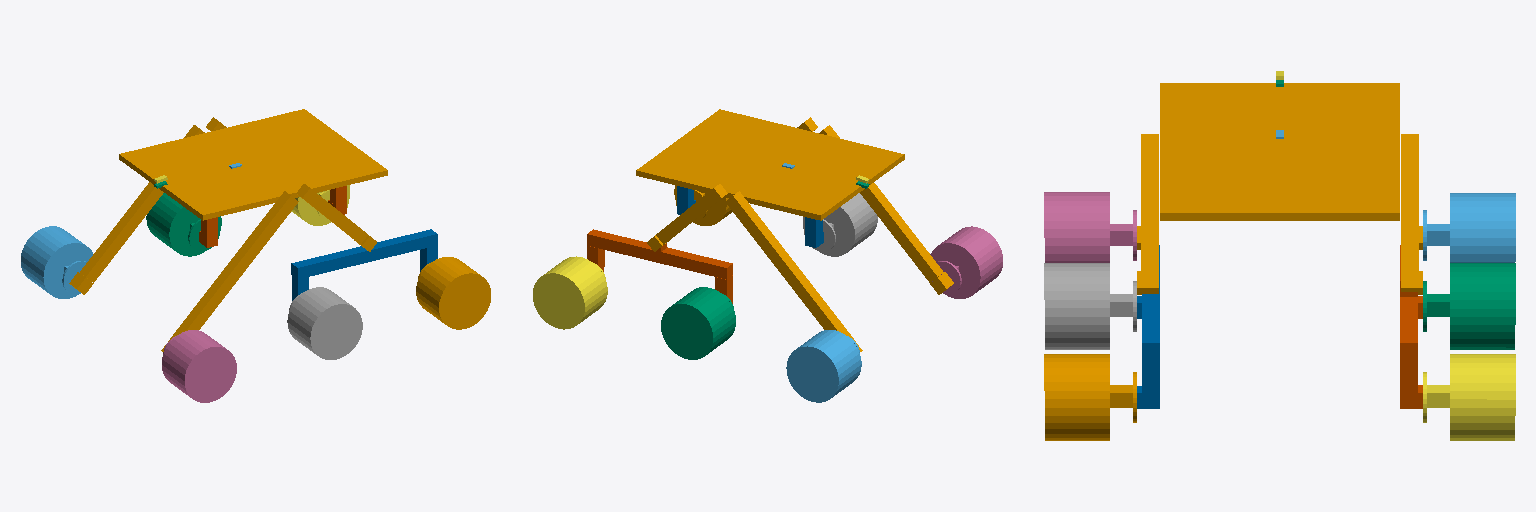
The robot description file, URDF, robot "rover":
<?xml version="1.0"?>

<robot name="rover">
  <link name="chassis">
    <inertial>
      <origin xyz="0 0 0" />
      <mass value="1.0" />
      <inertia  ixx="0.1" ixy="0.0"  ixz="0.0"  iyy="0.1"  iyz="0.0"  izz="0.1" />
    </inertial>
    <visual>
      <origin xyz="0 0 0.2"/>
      <geometry>
        <mesh filename="package://rover_gazebo/models/rover/3dmodels/platforma_nieruchome.dae" scale="1.0 1.0 1.0"/>
      </geometry>
    </visual>
    <collision>
      <origin xyz="0 0 0.2"/>
      <geometry>
        <mesh filename="package://rover_gazebo/models/rover/3dmodels/platforma_nieruchome.dae" scale="1.0 1.0 1.0"/>
      </geometry>
    </collision>
  </link>

  <link name="imu_link">
    <inertial>
      <origin xyz="0 0 0" />
      <mass value="1" />
      <inertia  ixx="0.001" ixy="0.0"  ixz="0.0"  iyy="0.001"  iyz="0.0"  izz=".001" />
    </inertial>
    <visual>
      <origin xyz="0  0  0"/>
      <geometry>
          <box size=".04 .02 .01"/>
      </geometry>
    </visual>
    <collision>
      <origin xyz="0  0  0"/>
      <geometry>
        <box size=".04 .02 .01"/>
      </geometry>
    </collision>
  </link>

  <link name="camera_link">
    <inertial>
      <origin xyz="0 0 0" />
      <mass value="1" />
      <inertia  ixx="0.001" ixy="0.0"  ixz="0.0"  iyy="0.001"  iyz="0.0"  izz=".001" />
    </inertial>
    <visual>
      <origin xyz="0  0  0"/>
      <geometry>
          <box size=".04 .02 .01"/>
      </geometry>
    </visual>
    <collision>
      <origin xyz="0  0  0"/>
      <geometry>
        <box size=".04 .02 .01"/>
      </geometry>
    </collision>
  </link>

  <link name="lidar_link">
    <inertial>
      <origin xyz="0 0 0" />
      <mass value="1" />
      <inertia  ixx="0.001" ixy="0.0"  ixz="0.0"  iyy="0.001"  iyz="0.0"  izz=".001" />
    </inertial>
    <visual>
      <origin xyz="0  0  0"/>
      <geometry>
          <box size=".04 .02 .01"/>
      </geometry>
    </visual>
    <collision>
      <origin xyz="0  0  0"/>
      <geometry>
        <box size=".04 .02 .01"/>
      </geometry>
    </collision>
  </link>





  <link name="left_steer">
    <inertial>
      <origin xyz="0 0 -0.1" />
      <mass value="1" />
      <inertia  ixx="0.005" ixy="0.0"  ixz="0.0"  iyy="0.005"  iyz="0.0"  izz=".005" />
    </inertial>
    <visual>
      <origin xyz="-0.32525  0.30404 -0.18389"/>
      <geometry>
        <mesh filename="package://rover_gazebo/models/rover/3dmodels/platforma_lewe_dwa.dae" scale="1.0 1.0 1.0"/>
      </geometry>
    </visual>
    <collision>
      <origin xyz="-0.32525  0.30404 -0.18389"/>
      <geometry>
        <mesh filename="package://rover_gazebo/models/rover/3dmodels/platforma_lewe_dwa.dae" scale="1.0 1.0 1.0"/>
      </geometry>
    </collision>
  </link>

  <link name="right_steer">
    <inertial>
      <origin xyz="0 0 -0.1" />
      <mass value="1" />
      <inertia  ixx=".005" ixy="0.0"  ixz="0.0"  iyy=".005"  iyz="0.0"  izz=".005" />
    </inertial>
    <visual>
      <origin xyz="-0.32525 -0.30404 -0.18389"/>
      <geometry>
        <mesh filename="package://rover_gazebo/models/rover/3dmodels/platforma_prawe_dwa.dae" scale="1.0 1.0 1.0"/>
      </geometry>
    </visual>
    <collision>
      <origin xyz="-0.32525 -0.30404 -0.18389"/>
      <geometry>
        <mesh filename="package://rover_gazebo/models/rover/3dmodels/platforma_prawe_dwa.dae" scale="1.0 1.0 1.0"/>
      </geometry>
    </collision>
  </link>


  <link name="left_wheel_1">
    <inertial>
      <origin xyz="0 -0.15 0" />
      <mass value="1" />
      <inertia  ixx="0.0009" ixy="0.0"  ixz="0.0"  iyy="0.0009"  iyz="0.0"  izz="0.001" />
    </inertial>
    <visual>
      <origin xyz="0.41492  0.346    0.04176"/>
      <geometry>
        <mesh filename="package://rover_gazebo/models/rover/3dmodels/platforma_kolo_lewe1.dae" scale="1.0 1.0 1.0"/>
      </geometry>
    </visual>
    <collision>
      <origin xyz="0.41492  0.346    0.04176"/>
      <geometry>
        <mesh filename="package://rover_gazebo/models/rover/3dmodels/platforma_kolo_lewe1.dae" scale="1.0 1.0 1.0"/>
      </geometry>
    </collision>
  </link>


  <link name="left_wheel_2">
    <inertial>
      <origin xyz="0 -0.15 0" />
      <mass value="1" />
      <inertia  ixx="0.0009" ixy="0.0"  ixz="0.0"  iyy="0.0009"  iyz="0.0"  izz="0.001" />
    </inertial>
    <visual>
      <origin xyz="-0.0742   0.346   -0.00293"/>
      <geometry>
        <mesh filename="package://rover_gazebo/models/rover/3dmodels/platforma_kolo_lewe2.dae" scale="1.0 1.0 1.0"/>
      </geometry>
    </visual>
    <collision>
      <origin xyz="-0.0742   0.346   -0.00293"/>
      <geometry>
        <mesh filename="package://rover_gazebo/models/rover/3dmodels/platforma_kolo_lewe2.dae" scale="1.0 1.0 1.0"/>
      </geometry>
    </collision>
  </link>

  <link name="left_wheel_3">
    <inertial>
      <origin xyz="0 -0.15 0" />
      <mass value="1" />
      <inertia  ixx="0.0009" ixy="0.0"  ixz="0.0"  iyy="0.0009"  iyz="0.0"  izz="0.001" />
    </inertial>
    <visual>
      <origin xyz="-5.74160000e-01   3.46000000e-01  -9.00000000e-05"/>
      <geometry>
        <mesh filename="package://rover_gazebo/models/rover/3dmodels/platforma_kolo_lewe3.dae" scale="1.0 1.0 1.0"/>
      </geometry>
    </visual>
    <collision>
      <origin xyz="-5.74160000e-01   3.46000000e-01  -9.00000000e-05"/>
      <geometry>
        <mesh filename="package://rover_gazebo/models/rover/3dmodels/platforma_kolo_lewe3.dae" scale="1.0 1.0 1.0"/>
      </geometry>
    </collision>
  </link>

  <link name="right_wheel_1">
    <inertial>
      <origin xyz="0 0.15 0" />
      <mass value="1" />
      <inertia  ixx="0.0009" ixy="0.0"  ixz="0.0"  iyy="0.0009"  iyz="0.0"  izz="0.001" />
    </inertial>
    <visual>
      <origin xyz="0.41492 -0.346    0.04176"/>
      <geometry>
        <mesh filename="package://rover_gazebo/models/rover/3dmodels/platforma_kolo_prawe1.dae" scale="1.0 1.0 1.0"/>
      </geometry>
    </visual>
    <collision>
      <origin xyz="0.41492 -0.346    0.04176"/>
      <geometry>
        <mesh filename="package://rover_gazebo/models/rover/3dmodels/platforma_kolo_prawe1.dae" scale="1.0 1.0 1.0"/>
      </geometry>
    </collision>
  </link>


  <link name="right_wheel_2">
    <inertial>
      <origin xyz="0 0.15 0" />
      <mass value="1" />
      <inertia  ixx="0.0009" ixy="0.0"  ixz="0.0"  iyy="0.0009"  iyz="0.0"  izz="0.001" />
    </inertial>
    <visual>
      <origin xyz="-0.0742   -0.346   -0.00293"/>
      <geometry>
        <mesh filename="package://rover_gazebo/models/rover/3dmodels/platforma_kolo_prawe2.dae" scale="1.0 1.0 1.0"/>
      </geometry>
    </visual>
    <collision>
      <origin xyz="-0.0742   -0.346   -0.00293"/>
      <geometry>
        <mesh filename="package://rover_gazebo/models/rover/3dmodels/platforma_kolo_prawe2.dae" scale="1.0 1.0 1.0"/>
      </geometry>
    </collision>
  </link>

  <link name="right_wheel_3">
    <inertial>
      <origin xyz="0 0.15 0" />
      <mass value="1" />
      <inertia  ixx="0.0009" ixy="0.0"  ixz="0.0"  iyy="0.0009"  iyz="0.0"  izz="0.001" />
    </inertial>
    <visual>
      <origin xyz="-5.74160000e-01   -3.46000000e-01  -9.00000000e-05"/>
      <geometry>
        <mesh filename="package://rover_gazebo/models/rover/3dmodels/platforma_kolo_prawe3.dae" scale="1.0 1.0 1.0"/>
      </geometry>
    </visual>
    <collision>
      <origin xyz="-5.74160000e-01   -3.46000000e-01  -9.00000000e-05"/>
      <geometry>
        <mesh filename="package://rover_gazebo/models/rover/3dmodels/platforma_kolo_prawe3.dae" scale="1.0 1.0 1.0"/>
      </geometry>
    </collision>
  </link>

  <joint name="imu_joint" type="fixed">
    <parent link="chassis"/>
    <child link="imu_link"/>
    <origin rpy="0  0  0" xyz="0       0       0.61032"/>
    <axis xyz="0 0  0"/>
    <limit effort="0.0" lower="0" upper="0" velocity="0.0"/>
  </joint>


  <joint name="camera_joint" type="fixed">
    <parent link="chassis"/>
    <child link="camera_link"/>
    <origin rpy="0  0.0873  3.14159265" xyz="-0.28996  0       0.61032"/>
    <axis xyz="0 0  0"/>
    <limit effort="0.0" lower="0" upper="0" velocity="0.0"/>
  </joint>

  <joint name="lidar_joint" type="fixed">
    <parent link="chassis"/>
    <child link="lidar_link"/>
    <origin rpy="0  0.1222  3.14159265"  xyz="-0.28996       0       0.63032"/>
    <axis xyz="0 0  0"/>
    <limit effort="0.0" lower="0" upper="0" velocity="0.0"/>
  </joint>



  <joint name="left_steer_hinge" type="revolute">
    <parent link="chassis"/>
    <child link="left_steer"/>
    <origin rpy="0  0  0" xyz="0.32525 -0.30404  0.38389"/>
    <axis xyz="0 -1  0"/>
    <limit effort="0.0" lower="-0.5" upper="1.0" velocity="0.0"/>
  </joint>

  <joint name="right_steer_hinge" type="revolute">
    <parent link="chassis"/>
    <child link="right_steer"/>
    <origin rpy="0  0  0" xyz="0.32525  0.30404  0.38389"/>
    <axis xyz="0 1  0"/>
    <limit effort="0.0" lower="-1." upper="0.5" velocity="0.0"/>
  </joint>

  <joint name="left_wheel_1_hinge" type="continuous">
    <parent link="chassis"/>
    <child link="left_wheel_1"/>
    <origin rpy="0  0  0" xyz="-0.41492 -0.346    0.15824"/>
    <axis xyz="0 -1  0"/>
    <limit effort="0" velocity="0"/>
  </joint>

  <joint name="left_wheel_2_hinge" type="continuous">
    <parent link="left_steer"/>
    <child link="left_wheel_2"/>
    <origin rpy="0  0  0" xyz="-0.25105 -0.04195 -0.18095"/>
    <axis xyz="0 -1  0"/>
    <limit effort="0" velocity="0"/>
  </joint>

  <joint name="left_wheel_3_hinge" type="continuous">
    <parent link="left_steer"/>
    <child link="left_wheel_3"/>
    <origin rpy="0  0  0" xyz="0.24891 -0.04195 -0.18379"/>
    <axis xyz="0 1  0"/>
    <limit effort="0"  velocity="0"/>
  </joint>

  <joint name="right_wheel_1_hinge" type="continuous">
    <parent link="chassis"/>
    <child link="right_wheel_1"/>
    <origin rpy="0  0  0" xyz="-0.41492 0.346    0.15824"/>
    <axis xyz="0 1  0"/>
    <limit effort="0"  velocity="0"/>
  </joint>

  <joint name="right_wheel_2_hinge" type="continuous">
    <parent link="right_steer"/>
    <child link="right_wheel_2"/>
    <origin rpy="0  0  0" xyz="-0.25105 0.04195 -0.18095"/>
    <axis xyz="0 1  0"/>
    <limit effort="0" velocity="0"/>
  </joint>

  <joint name="right_wheel_3_hinge" type="continuous">
    <parent link="right_steer"/>
    <child link="right_wheel_3"/>
    <origin rpy="0  0  0" xyz="0.24891 0.04195 -0.18379"/>
    <axis xyz="0 1  0"/>
    <limit effort="0" velocity="0"/>
  </joint>


  <gazebo reference ="left_wheel_1">
      <mu1 value="200.0"/>
      <mu2 value="100.0"/>
      <kp value="10000000.0"/>
      <kd value= "1.0"/>
      <material>Gazebo/Black</material>
  </gazebo>
  <gazebo reference ="left_wheel_2">
      <mu1 value="200.0"/>
      <mu2 value="100.0"/>
      <kp value="10000000.0"/>
      <kd value= "1.0"/>
      <material>Gazebo/Black</material>
  </gazebo>
  <gazebo reference ="left_wheel_3">
      <mu1 value="200.0"/>
      <mu2 value="100.0"/>
      <kp value="10000000.0"/>
      <kd value= "1.0"/>
      <material>Gazebo/Black</material>
  </gazebo>
  <gazebo reference ="right_wheel_1">
      <mu1 value="200.0"/>
      <mu2 value="100.0"/>
      <kp value="10000000.0"/>
      <kd value= "1.0"/>
      <material>Gazebo/Black</material>
  </gazebo>
  <gazebo reference ="right_wheel_2">
      <mu1 value="200.0"/>
      <mu2 value="100.0"/>
      <kp value="10000000.0"/>
      <kd value= "1.0"/>
      <material>Gazebo/Black</material>
  </gazebo>
  <gazebo reference ="right_wheel_3">
      <mu1 value="200.0"/>
      <mu2 value="100.0"/>
      <kp value="10000000.0"/>
      <kd value= "1.0"/>
      <material>Gazebo/Black</material>
  </gazebo>



  <gazebo reference="chassis">
    <material>Gazebo/Blue</material>
  </gazebo>


  <gazebo reference="camera_link">
    <sensor name="d_camera" type="depth">
      <pose>-0.28996  0 0.61032 0 0 0</pose>
      <visualize>true</visualize>
      <update_rate>10</update_rate>
      <camera>
        <horizontal_fov>1.047198</horizontal_fov>
        <image>
          <width>640</width>
          <height>480</height>
          <format>R8G8B8</format>
        </image>
        <clip>
          <near>0.05</near>
          <far>3</far>
        </clip>
      </camera>
      <plugin name="d_controller" filename="libgazebo_ros_openni_kinect.so">
        <baseline>0.2</baseline>
        <alwaysOn>true</alwaysOn>
        <updateRate>1.0</updateRate>
        <cameraName>kamera_ir</cameraName>
        <imageTopicName>/kamera/depth/image_raw</imageTopicName>
        <cameraInfoTopicName>/kamera/depth/camera_info</cameraInfoTopicName>
        <depthImageTopicName>/kamera/depth/image_raw</depthImageTopicName>
        <depthImageInfoTopicName>/kamera/depth/camera_info</depthImageInfoTopicName>
        <pointCloudTopicName>/kamera/depth/points</pointCloudTopicName>
        <frameName>image</frameName>
        <pointCloudCutoff>0.5</pointCloudCutoff>
        <pointCloudCutoffMax>3.0</pointCloudCutoffMax>
        <distortionK1>0.00000001</distortionK1>
        <distortionK2>0.00000001</distortionK2>
        <distortionK3>0.00000001</distortionK3>
        <distortionT1>0.00000001</distortionT1>
        <distortionT2>0.00000001</distortionT2>
        <CxPrime>0</CxPrime>
        <Cx>0</Cx>
        <Cy>0</Cy>
        <focalLength>0</focalLength>
        <hackBaseline>0</hackBaseline>
      </plugin>
    </sensor>
  </gazebo>


  <gazebo reference="lidar_link">
    <sensor type="gpu_ray" name="head_hokuyo_sensor">
      <pose>0 0 0.62032 0 0 0</pose>
      <visualize>true</visualize>
      <update_rate>40</update_rate>
      <ray>
        <scan>
          <horizontal>
            <samples>720</samples>
            <resolution>1</resolution>
            <min_angle>-1.570796</min_angle>
            <max_angle>1.570796</max_angle>
          </horizontal>
        </scan>
        <range>
          <min>0.10</min>
          <max>30.0</max>
          <resolution>0.01</resolution>
        </range>
        <noise>
          <type>gaussian</type>
          <!-- Noise parameters based on published spec for Hokuyo laser
               achieving "+-30mm" accuracy at range < 10m.  A mean of 0.0m and
               stddev of 0.01m will put 99.7% of samples within 0.03m of the true
               reading. -->
          <mean>0.0</mean>
          <stddev>0.01</stddev>
        </noise>
      </ray>
      <plugin name="gazebo_ros_head_hokuyo_controller" filename="libgazebo_ros_gpu_laser.so">
        <topicName>/rover/laser/scan</topicName>
        <frameName>hokuyo_link</frameName>
      </plugin>
    </sensor>
  </gazebo>

  <gazebo reference="imu_link">
      <gravity>true</gravity>
      <sensor name="imu_sensor" type="imu">
        <always_on>true</always_on>
        <update_rate>100</update_rate>
        <visualize>true</visualize>
        <topic>__default_topic__</topic>
        <plugin filename="libgazebo_ros_imu_sensor.so" name="imu_plugin">
          <topicName>rover/imu</topicName>
          <bodyName>imu_link</bodyName>
          <updateRateHZ>10.0</updateRateHZ>
          <gaussianNoise>0.0</gaussianNoise>
          <xyzOffset>0 0 0</xyzOffset>
          <rpyOffset>0 0 0</rpyOffset>
          <frameName>imu_link</frameName>
        </plugin>
        <pose>0 0 0 0 0 0</pose>
      </sensor>
    </gazebo>
<!--
    <gazebo>
        <plugin name="gazebo_ros_control" filename="libgazebo_ros_control.so">
          <robotNamespace>/rover</robotNamespace>
          <legacyModeNS>true</legacyModeNS>
        </plugin>
      </gazebo>


   <transmission name="left_steer_trans">
        <type>transmission_interface/SimpleTransmission</type>
        <actuator name="motor7">
        </actuator>
        <joint name="left_steer_hinge">
            <hardwareInterface>hardware_interface/VelocityJointInterface</hardwareInterface>
        </joint>
      </transmission>

      <transmission name="right_steer_trans">
        <type>transmission_interface/SimpleTransmission</type>
        <actuator name="motor8">
        </actuator>
        <joint name="right_steer_hinge">
            <hardwareInterface>hardware_interface/VelocityJointInterface</hardwareInterface>
        </joint>
      </transmission>




  <transmission name="left_wheel_1_trans">
        <type>transmission_interface/SimpleTransmission</type>
        <actuator name="motor1">
          <hardwareInterface>EffortJointInterface</hardwareInterface>
          <mechanicalReduction>1</mechanicalReduction>
        </actuator>
        <joint name="left_wheel_1_hinge">
          <hardwareInterface>hardware_interface/VelocityJointInterface</hardwareInterface>
        </joint>
      </transmission>

      <transmission name="left_wheel_2_trans">
        <type>transmission_interface/SimpleTransmission</type>
        <actuator name="motor2">
          <hardwareInterface>EffortJointInterface</hardwareInterface>
          <mechanicalReduction>1</mechanicalReduction>
        </actuator>
        <joint name="left_wheel_2_hinge">
          <hardwareInterface>hardware_interface/VelocityJointInterface</hardwareInterface>
        </joint>
      </transmission>
      <transmission name="left_wheel_3_trans">
        <type>transmission_interface/SimpleTransmission</type>
        <actuator name="motor3">
          <hardwareInterface>EffortJointInterface</hardwareInterface>
          <mechanicalReduction>1</mechanicalReduction>
        </actuator>
        <joint name="left_wheel_3_hinge">
          <hardwareInterface>hardware_interface/VelocityJointInterface</hardwareInterface>
        </joint>
      </transmission>

      <transmission name="right_wheel_1_trans">
        <type>transmission_interface/SimpleTransmission</type>
        <actuator name="motor4">
          <hardwareInterface>EffortJointInterface</hardwareInterface>
          <mechanicalReduction>1</mechanicalReduction>
        </actuator>
        <joint name="right_wheel_1_hinge">
          <hardwareInterface>hardware_interface/VelocityJointInterface</hardwareInterface>
        </joint>
      </transmission>
      <transmission name="right_wheel_2_trans">
        <type>transmission_interface/SimpleTransmission</type>
        <actuator name="motor5">
          <hardwareInterface>EffortJointInterface</hardwareInterface>
          <mechanicalReduction>1</mechanicalReduction>
        </actuator>
        <joint name="right_wheel_2_hinge">
          <hardwareInterface>hardware_interface/VelocityJointInterface</hardwareInterface>
        </joint>
      </transmission>
      <transmission name="right_wheel_3_trans">
        <type>transmission_interface/SimpleTransmission</type>
        <actuator name="motor6">
          <hardwareInterface>EffortJointInterface</hardwareInterface>
          <mechanicalReduction>1</mechanicalReduction>
        </actuator>
        <joint name="right_wheel_3_hinge">
          <hardwareInterface>hardware_interface/VelocityJointInterface</hardwareInterface>
        </joint>
      </transmission>
-->
<!--
<gazebo>
  <plugin name="object_controller" filename="libgazebo_ros_planar_move.so">
    <commandTopic>cmd_vel</commandTopic>
    <odometryTopic>odom</odometryTopic>
    <odometryFrame>odom</odometryFrame>
    <odometryRate>20.0</odometryRate>
    <robotBaseFrame>chassis</robotBaseFrame>
  </plugin>
</gazebo>

-->

<!--
<gazebo>
  <plugin name="differential_drive_controller" filename="libgazebo_ros_diff_drive.so">
    <alwaysOn>true</alwaysOn>
    <robotNamespace>/rover</robotNamespace>
    <legacyMode>false</legacyMode>
    <updateRate>30</updateRate>
    <leftJoint>left_wheel_1_hinge left_wheel_2_hinge left_wheel_3_hinge</leftJoint>
    <rightJoint>right_wheel_1_hinge right_wheel_2_hinge right_wheel_3_hinge</rightJoint>
    <wheelSeparation>0.692</wheelSeparation>
    <wheelDiameter>0.2034</wheelDiameter>
    <torque>20</torque>
    <commandTopic>cmd_vel</commandTopic>
    <odometryTopic>odom</odometryTopic>
    <odometryFrame>odom</odometryFrame>
    <robotBaseFrame>chassis</robotBaseFrame>
  </plugin>
</gazebo>

-->


<gazebo>
  <plugin name="skid_steer_drive_controller" filename="libgazebo_ros_skid_steer_drive.so">
    <updateRate>50.0</updateRate>
    <robotNamespace>/rover</robotNamespace>
    <leftRearJoint>left_wheel_2_hinge</leftRearJoint>
    <rightRearJoint>right_wheel_2_hinge</rightRearJoint>
    <leftFrontJoint>left_wheel_1_hinge</leftFrontJoint>
    <rightFrontJoint>right_wheel_1_hinge</rightFrontJoint>
    <wheelSeparation>0.692</wheelSeparation>
    <wheelDiameter>0.2034</wheelDiameter>
    <robotBaseFrame>chassis</robotBaseFrame>
    <torque>20</torque>
    <topicName>cmd_vel</topicName>
    <broadcastTF>true</broadcastTF>
  </plugin>
</gazebo>



</robot>

--- Render facts (derived) ---
Views: 3 orthographic renders of the robot side by side, from view 1: azimuth 30°, elevation 25°; view 2: azimuth 150°, elevation 25°; view 3: azimuth 270°, elevation 25°.
Robot: rover — 12 links, 11 joints (2 revolute, 6 continuous, 3 fixed); root link chassis; default pose: all joints at 0.
Visible links, largest first — view 1: chassis, left_wheel_1, left_wheel_2, left_wheel_3, right_wheel_1, left_steer, right_wheel_2, right_steer, right_wheel_3; view 2: chassis, right_wheel_2, right_wheel_1, right_wheel_3, left_wheel_1, right_steer, left_wheel_2, left_steer, left_wheel_3; view 3: chassis, right_wheel_2, right_wheel_3, left_wheel_2, left_wheel_3, left_wheel_1, right_wheel_1, right_steer, left_steer.
Boxes of the visible links, x1=… form: chassis: x1=69, y1=109, x2=387, y2=351; left_wheel_1: x1=162, y1=330, x2=236, y2=402; left_wheel_2: x1=287, y1=287, x2=362, y2=359; left_wheel_3: x1=416, y1=257, x2=490, y2=329; right_wheel_1: x1=21, y1=226, x2=92, y2=298; left_steer: x1=291, y1=229, x2=437, y2=300; right_wheel_2: x1=146, y1=193, x2=221, y2=256; right_steer: x1=199, y1=186, x2=346, y2=247; right_wheel_3: x1=291, y1=185, x2=349, y2=225; chassis: x1=636, y1=109, x2=953, y2=351; right_wheel_2: x1=661, y1=287, x2=735, y2=359; right_wheel_1: x1=786, y1=330, x2=861, y2=402; right_wheel_3: x1=533, y1=256, x2=607, y2=329; left_wheel_1: x1=930, y1=226, x2=1002, y2=298; right_steer: x1=587, y1=229, x2=732, y2=303; left_wheel_2: x1=803, y1=193, x2=877, y2=256; left_steer: x1=677, y1=186, x2=823, y2=247; left_wheel_3: x1=674, y1=185, x2=732, y2=225; chassis: x1=1137, y1=83, x2=1422, y2=294; right_wheel_2: x1=1423, y1=263, x2=1515, y2=349; right_wheel_3: x1=1423, y1=354, x2=1515, y2=440; left_wheel_2: x1=1044, y1=263, x2=1136, y2=349; left_wheel_3: x1=1044, y1=354, x2=1136, y2=440; left_wheel_1: x1=1044, y1=192, x2=1136, y2=262; right_wheel_1: x1=1423, y1=193, x2=1515, y2=262; right_steer: x1=1400, y1=245, x2=1422, y2=408; left_steer: x1=1137, y1=245, x2=1159, y2=408.
Size in the robot's own frame: 1.2 by 1.11 by 0.5841 metres.
9 mesh visuals loaded from 9 distinct referenced files (9 Collada DAE).